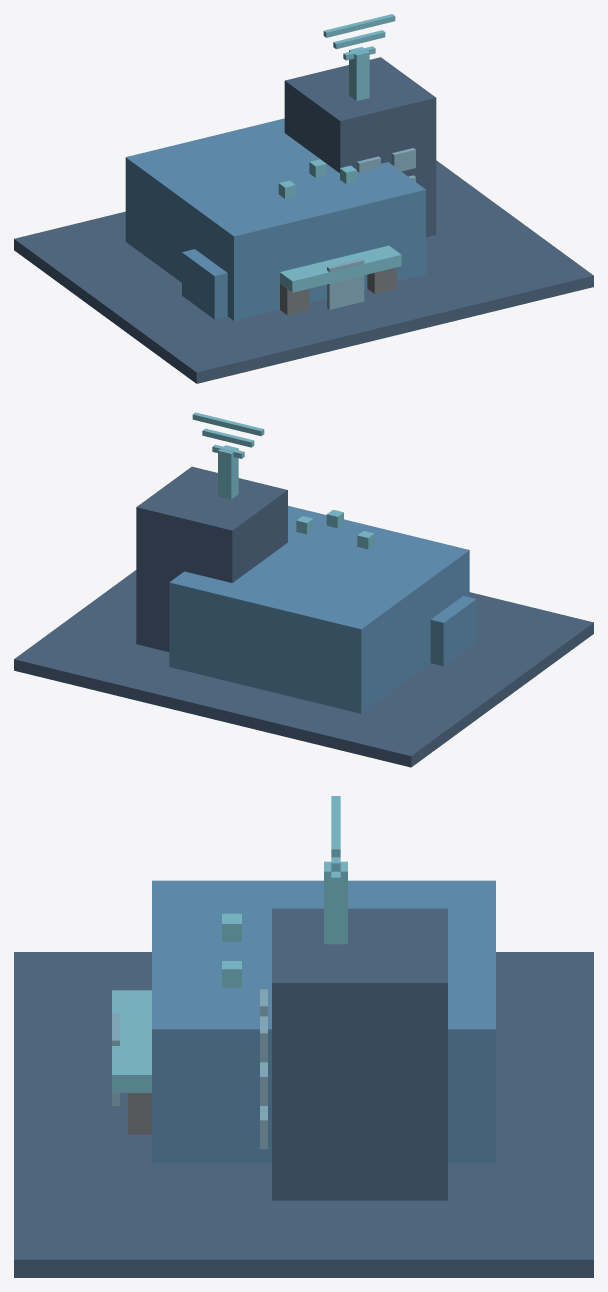
The model's file is internet_cafe.glb.
3 views of the same model, one above another, from view 1: azimuth 30°, elevation 25°; view 2: azimuth 150°, elevation 25°; view 3: azimuth 270°, elevation 25° (orthographic). The views are drawn at different scales.
Visible parts, largest first — view 1: world; view 2: world; view 3: world.
Part boxes in pixels (x1,y1,x2,y2): world: [14, 14, 593, 383]; world: [14, 412, 593, 767]; world: [14, 796, 593, 1277].
Size of the model in its own units: 0.9 by 0.4852 by 0.717.
